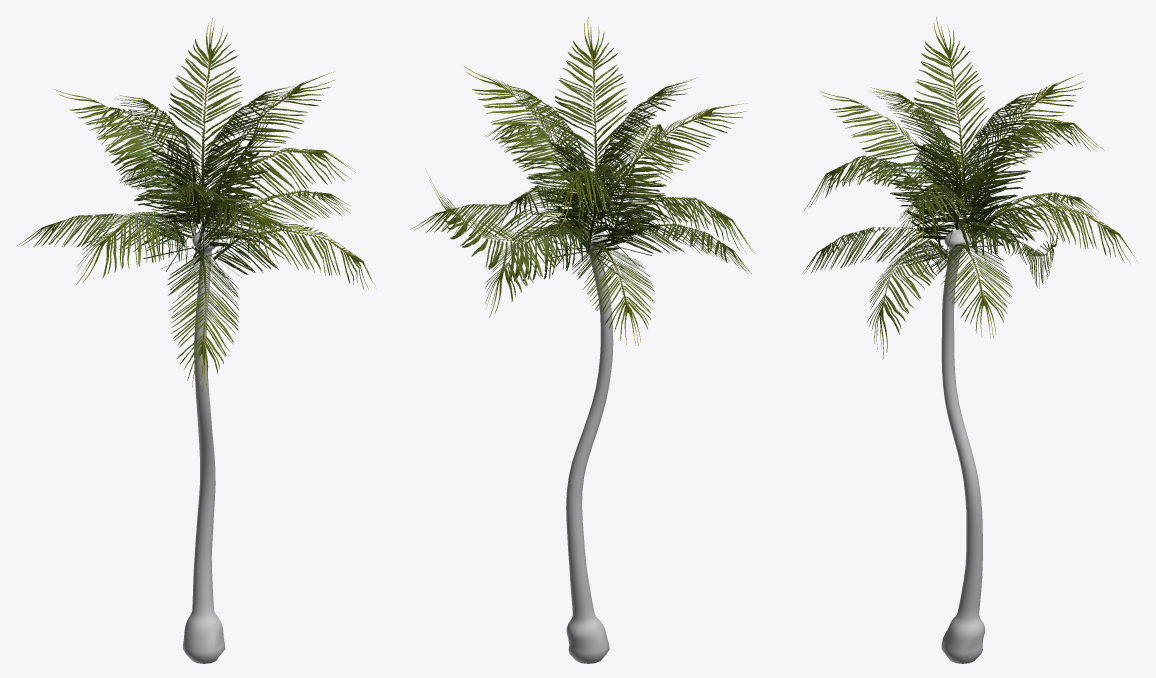
File: SM_Veg_PalmTree_03.FBX
3 views of the same model, side by side, from view 1: azimuth 30°, elevation 25°; view 2: azimuth 150°, elevation 25°; view 3: azimuth 270°, elevation 25° (orthographic).
Visible parts, largest first — view 1: SM_Veg_PalmTree_03_LOD0; view 2: SM_Veg_PalmTree_03_LOD0; view 3: SM_Veg_PalmTree_03_LOD0.
Part boxes in pixels (<box>): SM_Veg_PalmTree_03_LOD0: <box>17,17,374,663</box>; SM_Veg_PalmTree_03_LOD0: <box>410,17,755,663</box>; SM_Veg_PalmTree_03_LOD0: <box>802,16,1137,663</box>.
Size of what is drawn, in the model's own units: 8.63 by 15.56 by 8.22.
